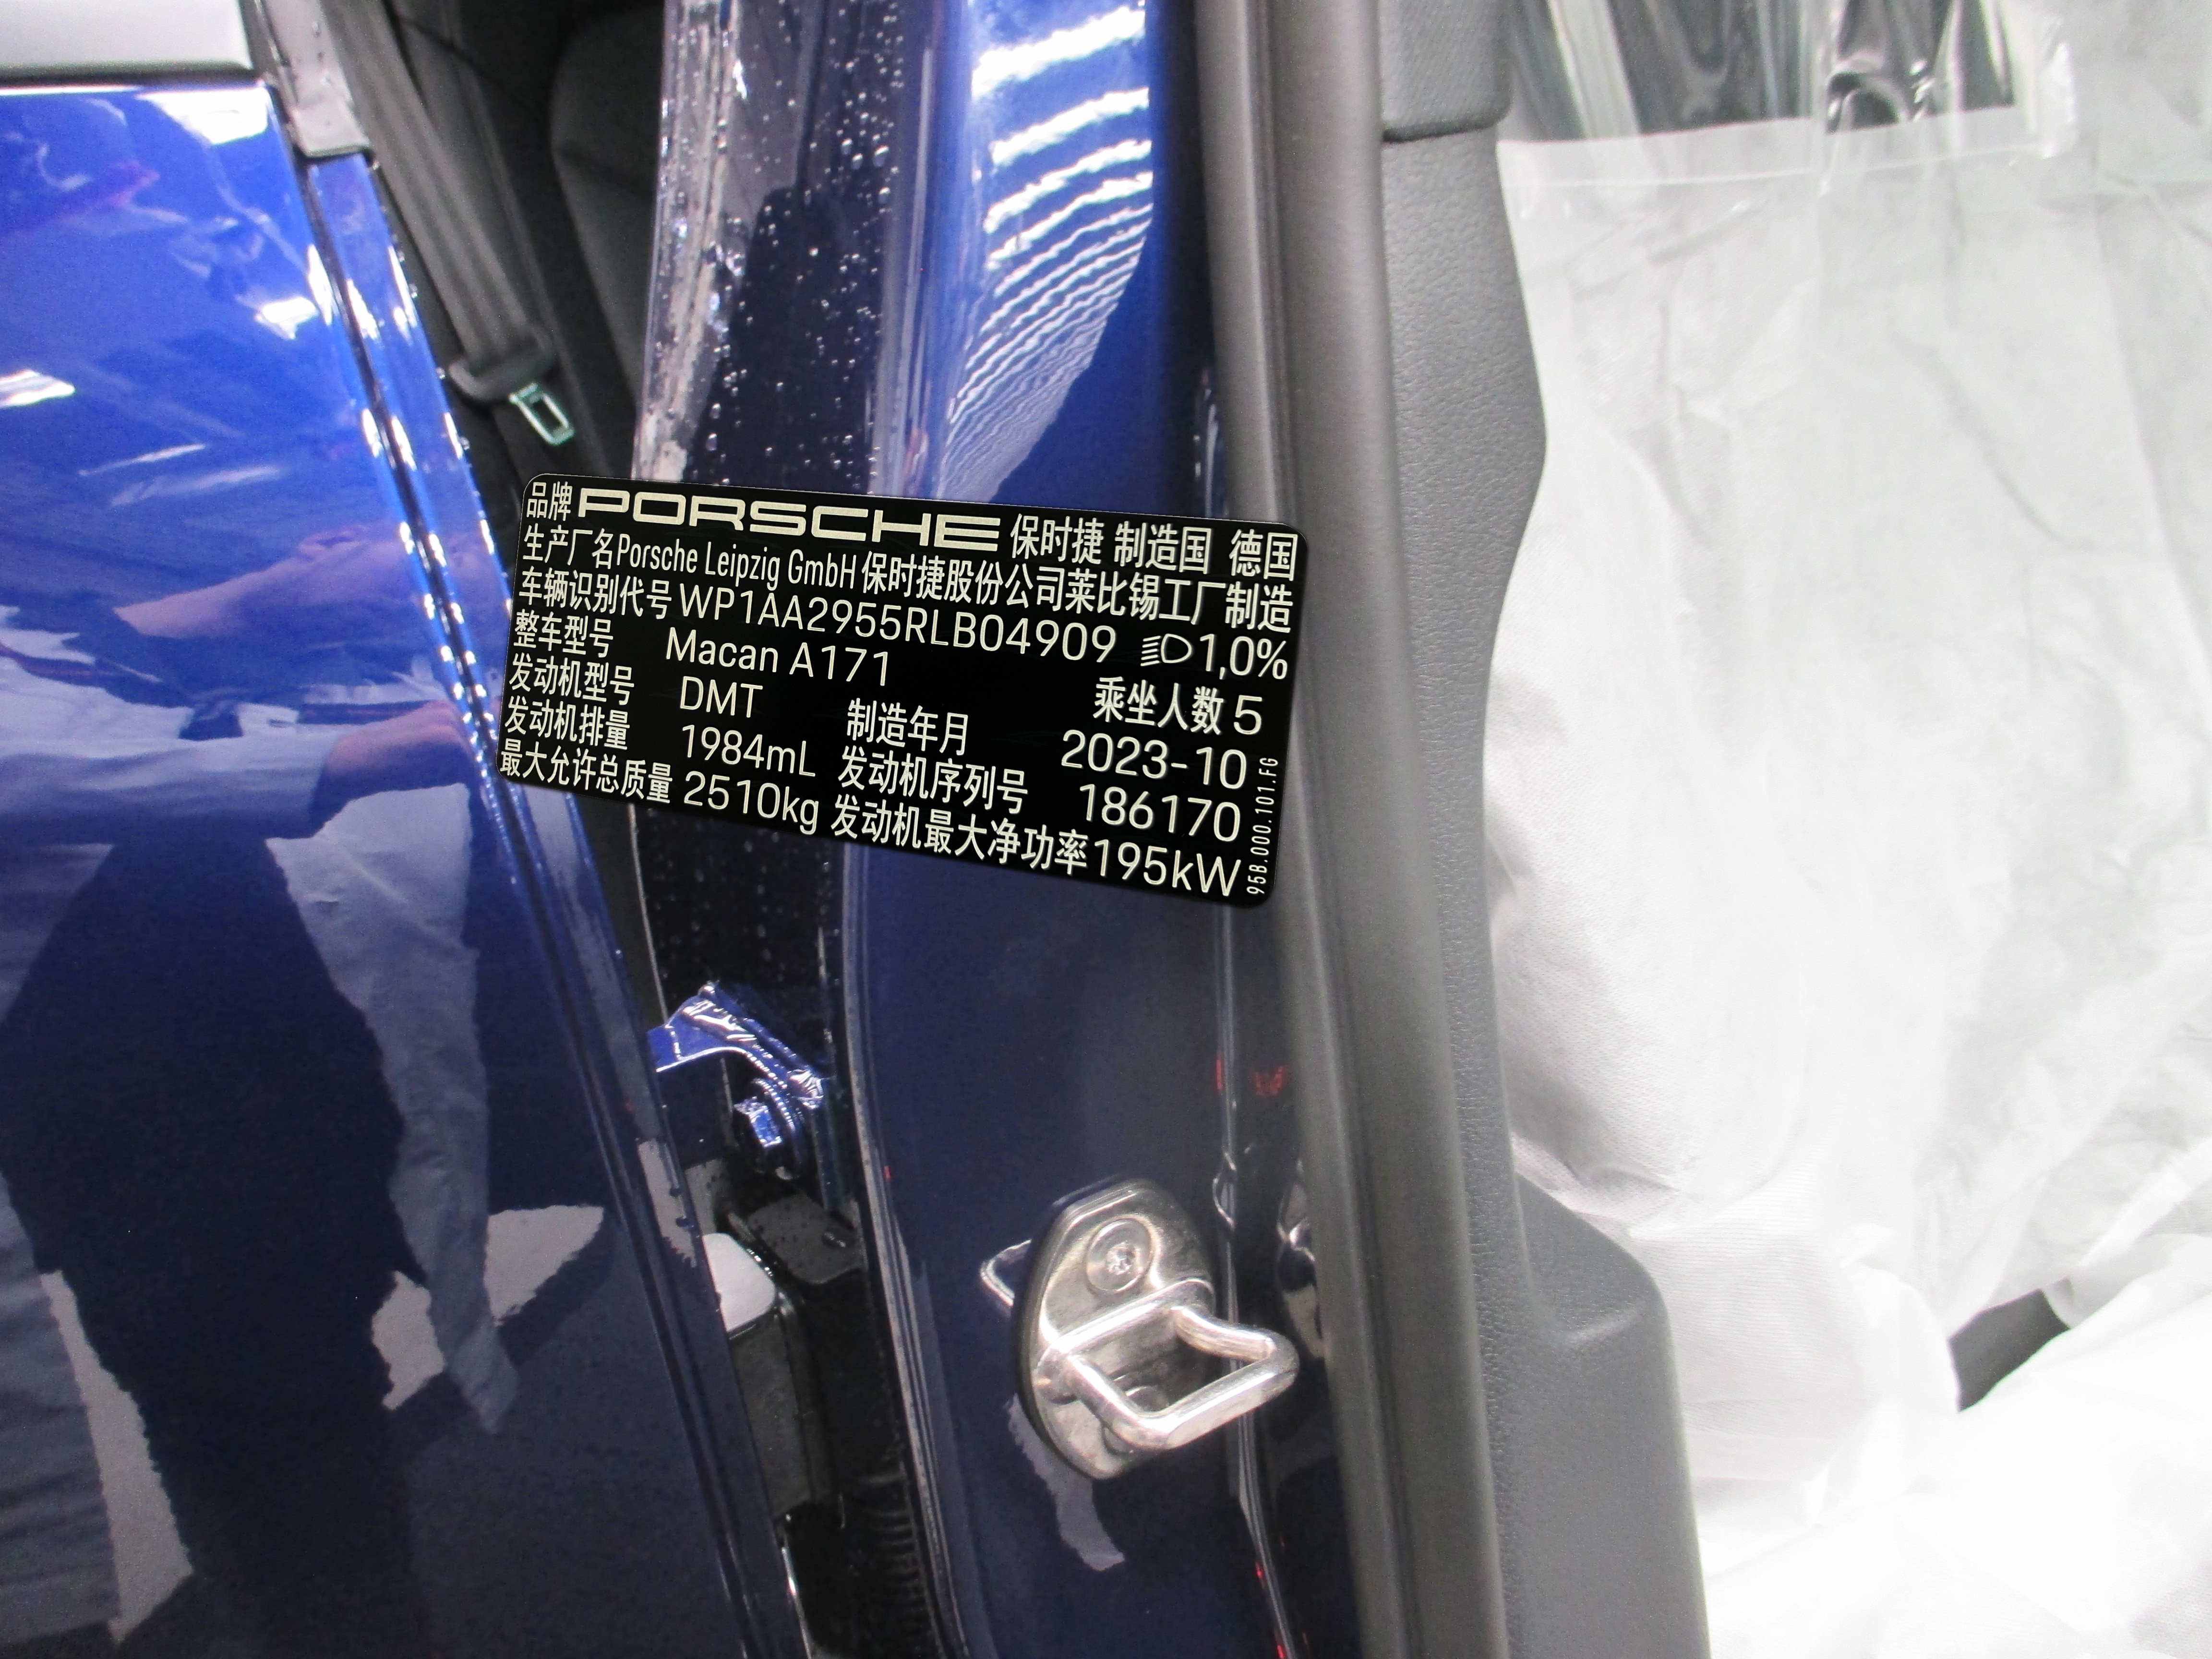Typlabel-China: (496, 474, 1308, 908)
